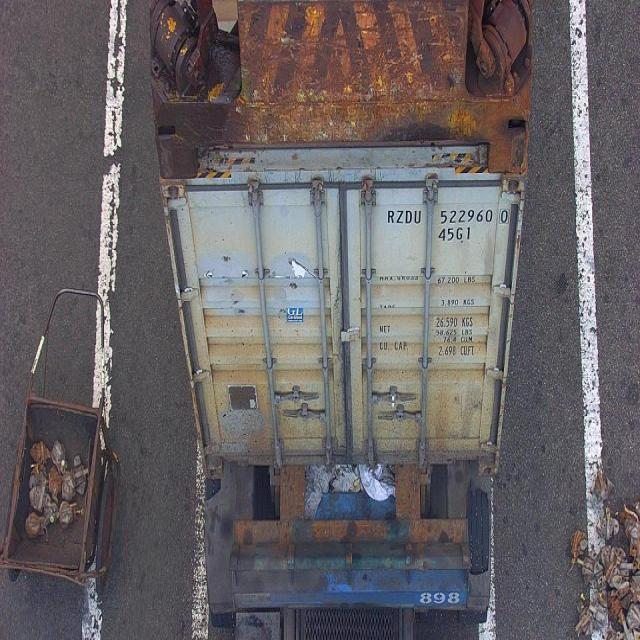ISO: (438, 230, 472, 242)
container_number: (383, 204, 509, 227)
